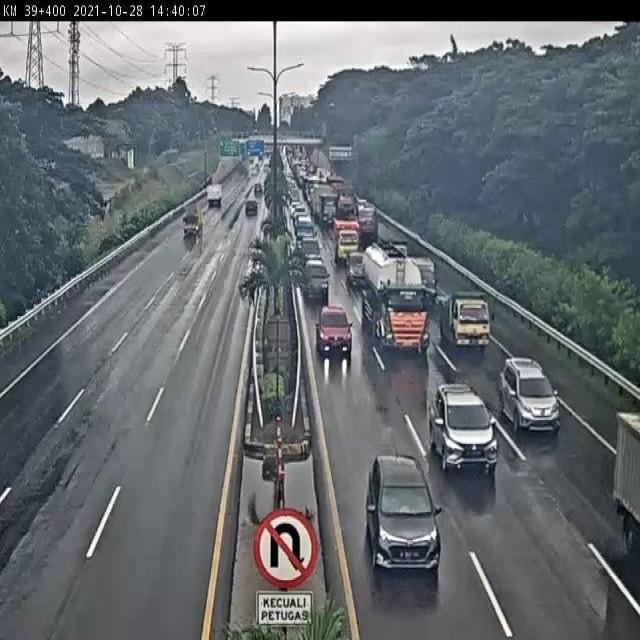big truck: (362, 241, 432, 351)
car: (364, 456, 442, 573), (427, 386, 503, 470), (500, 356, 563, 428), (315, 300, 352, 349), (303, 264, 330, 303), (345, 253, 369, 286), (300, 239, 321, 265)
small truck: (436, 289, 489, 344), (407, 249, 439, 303), (331, 216, 359, 261), (180, 206, 204, 242)
